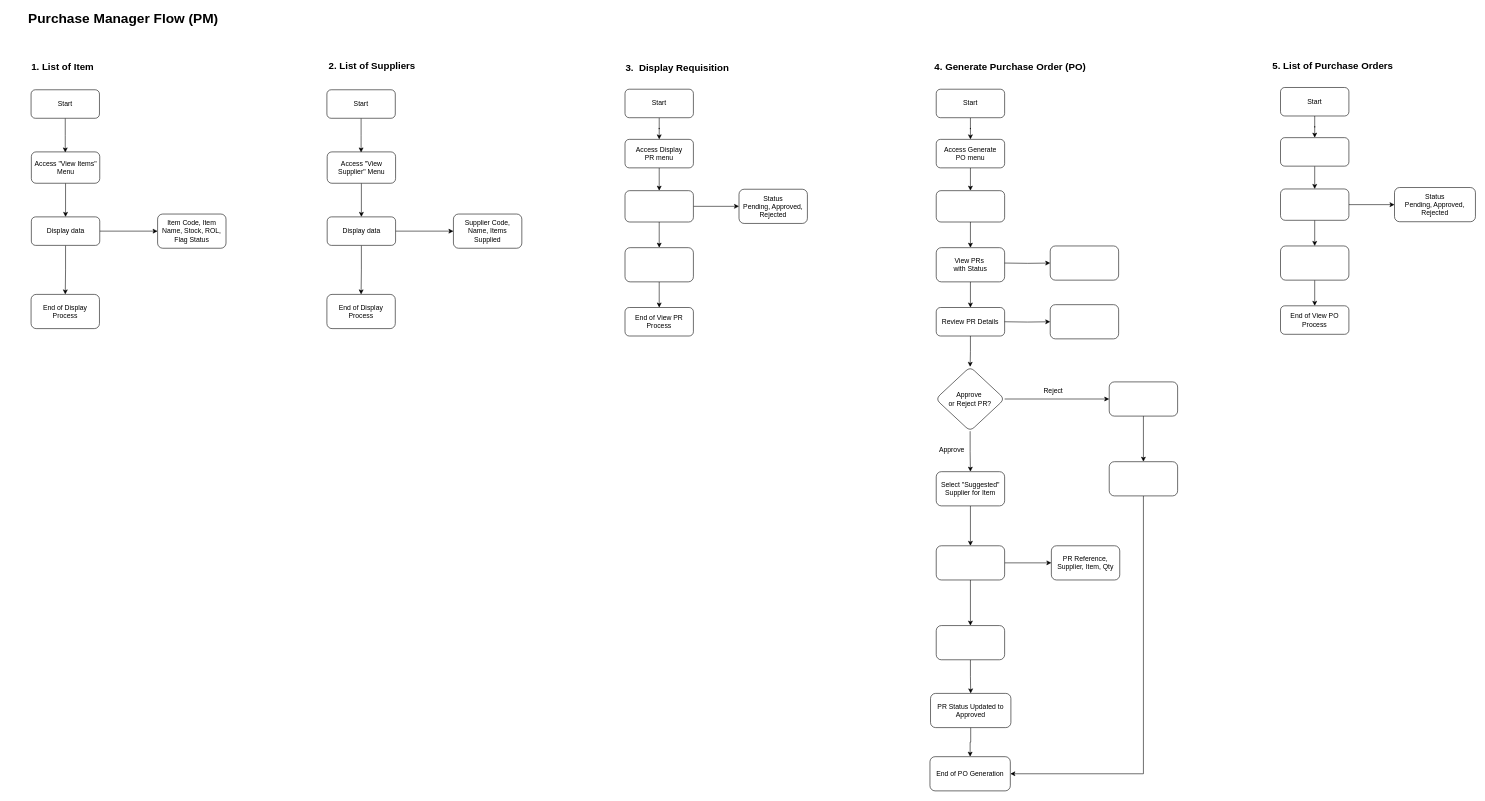
The diagram is 1485 pixels wide and 801 high, and some of its shapes have lost their labels. The centre of each missing label's shape, as x and y in pixels:
Access Display PO m enu: [1314,151]
Check Flagged Items for Reorder: [970,206]
For "Pending" Status: [1084,262]
Generates Unique PO ID: [970,562]
Item, Qty, Date, Suggested Suppliers: [1084,321]
PO Saved to File: [970,642]
Status = Rejected Save: [1143,478]
Update PR Status: [1143,398]
View List of POs: [1314,204]
View List of PRs: [658,206]
View PO Details (PO ID, Supplier, Items, Quantity, Status): [1314,262]
View PR Details (Item Code, Quantity, Date Needed, Status): [658,264]
